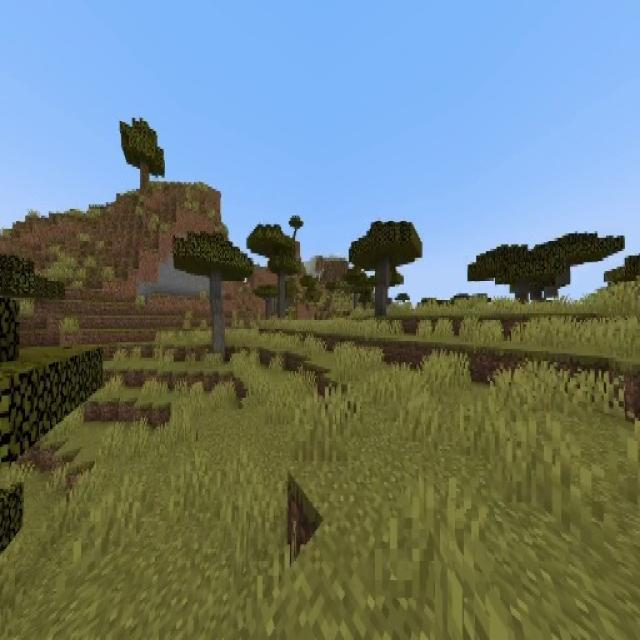acacia: (173, 228, 253, 362), (350, 219, 422, 320), (246, 222, 301, 322), (254, 282, 278, 319)
acacia_log: (210, 270, 225, 358), (376, 260, 387, 316), (277, 275, 285, 320), (266, 298, 270, 318)
oak: (118, 114, 165, 192)
oak_log: (140, 163, 148, 190)
